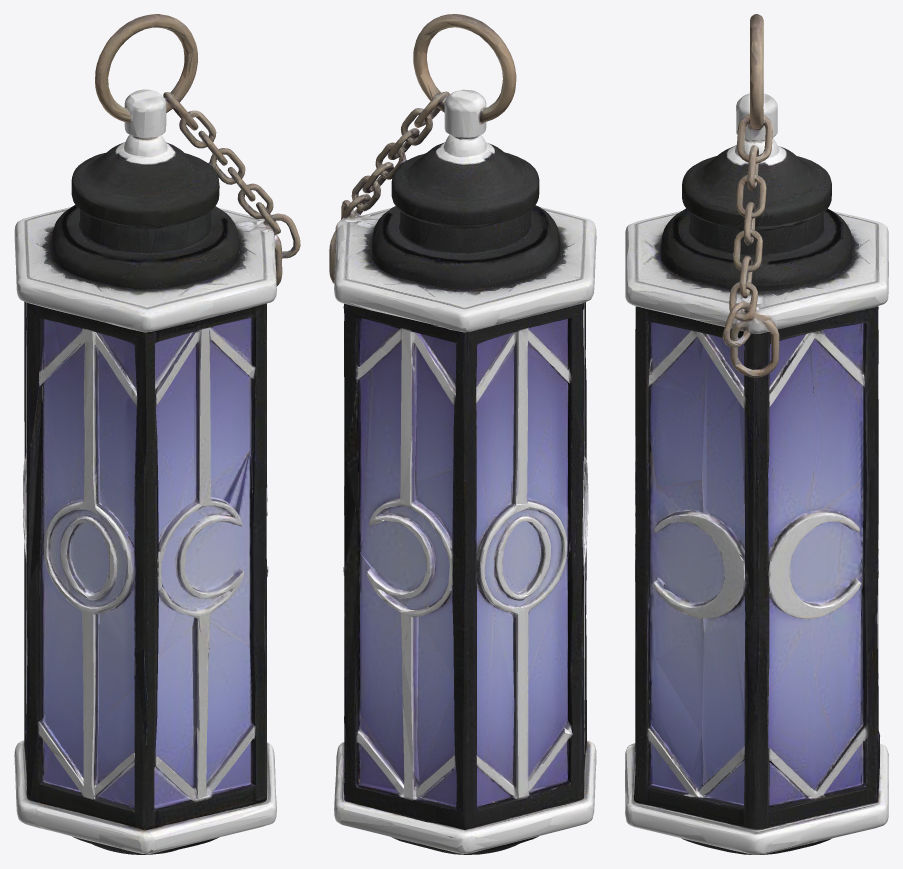
Rendered from hf_lantern.glb.
3 views of the same model, side by side, from view 1: azimuth 30°, elevation 25°; view 2: azimuth 150°, elevation 25°; view 3: azimuth 270°, elevation 25° (orthographic).
Size of the model in its own units: 0.641 by 1.9 by 0.5514.
Materials: 1 (1 with a texture image).
